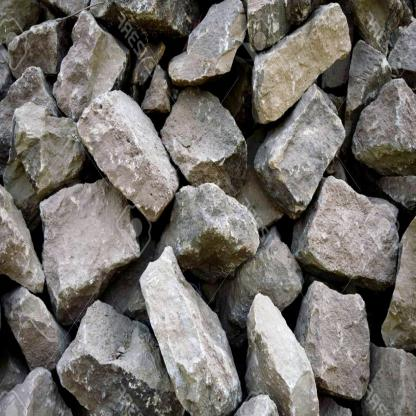Igneous_Granite: (143, 246, 243, 416), (90, 75, 188, 226), (37, 180, 135, 306), (297, 166, 399, 284), (247, 0, 348, 109), (54, 314, 161, 416), (268, 74, 354, 195), (170, 172, 256, 259), (168, 0, 245, 94), (297, 290, 370, 382), (360, 74, 414, 159)
